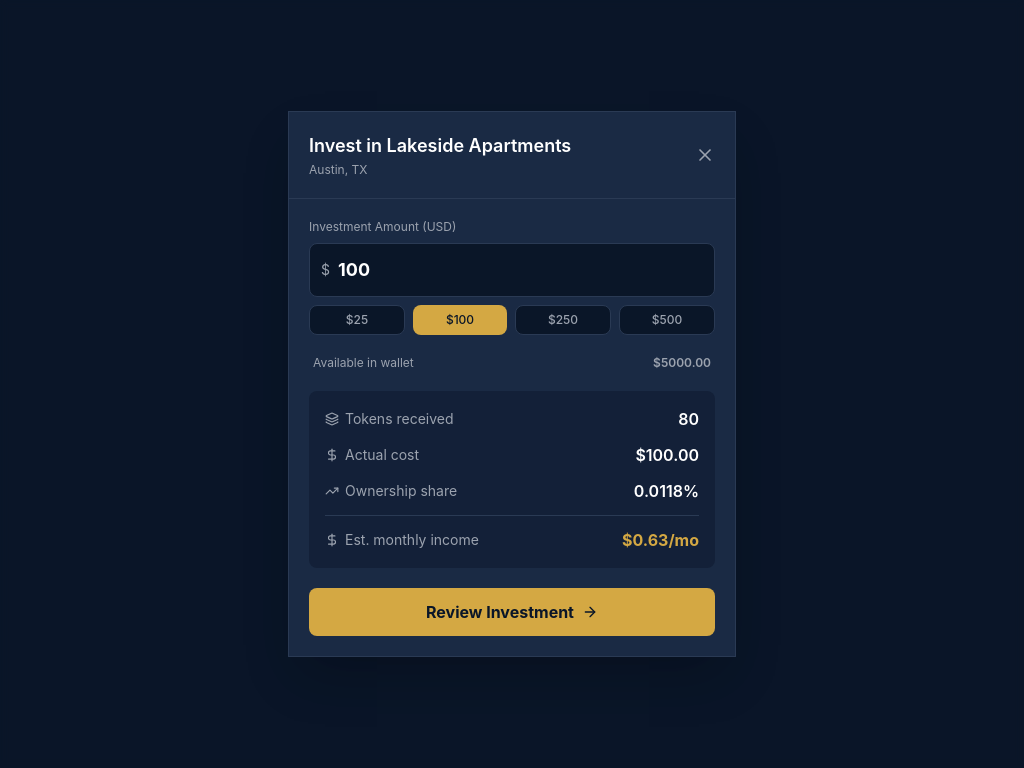
Test: InvestModal › Step 1 — amount (authenticated) › clicking a preset sets the investment amount
Click the button "$250".
click(563, 320)  # box [515, 305, 611, 335]
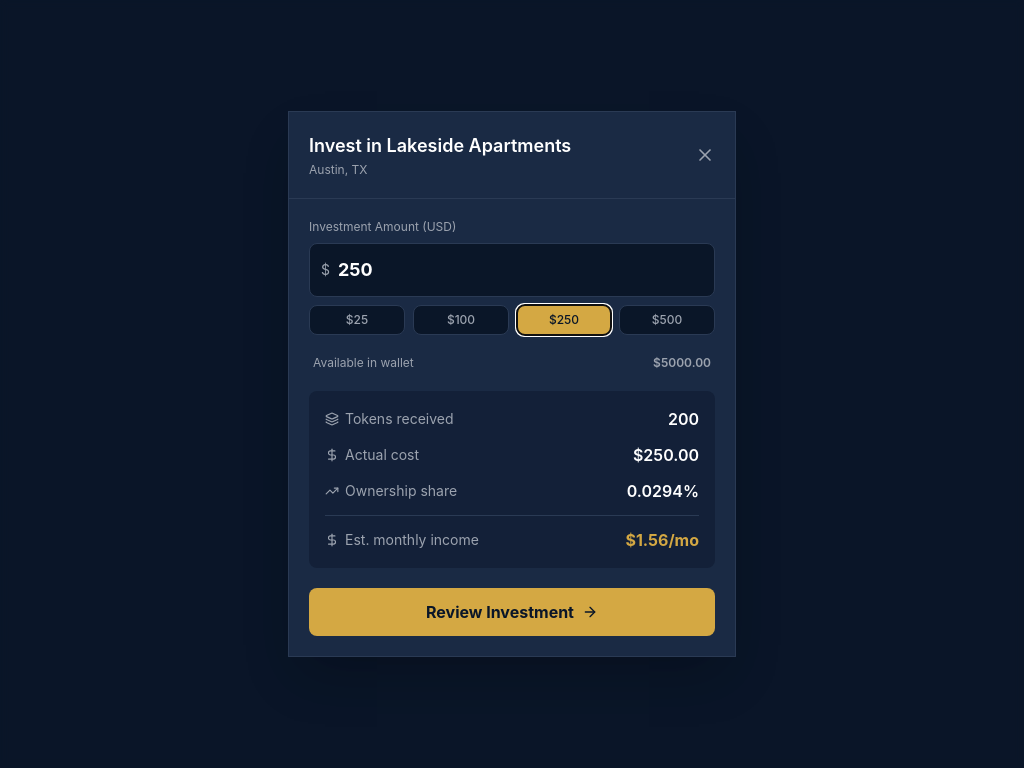
Expected: the number field holds "250", [309, 243, 715, 297]
